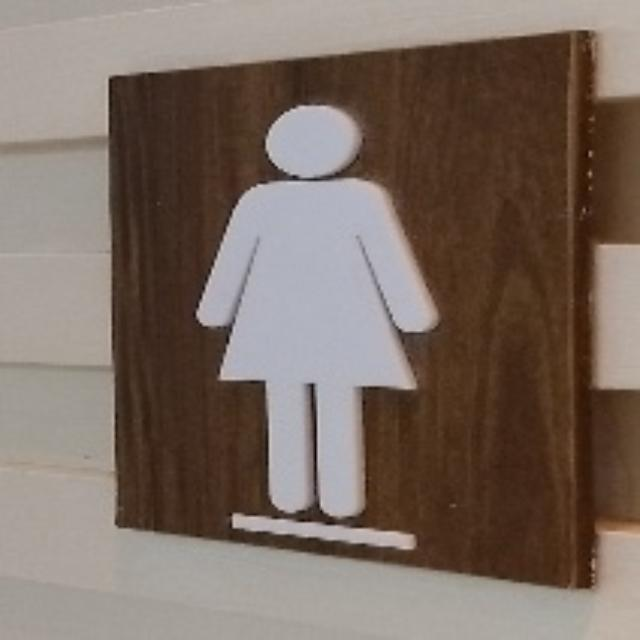womens_restroom: (115, 36, 586, 586)
